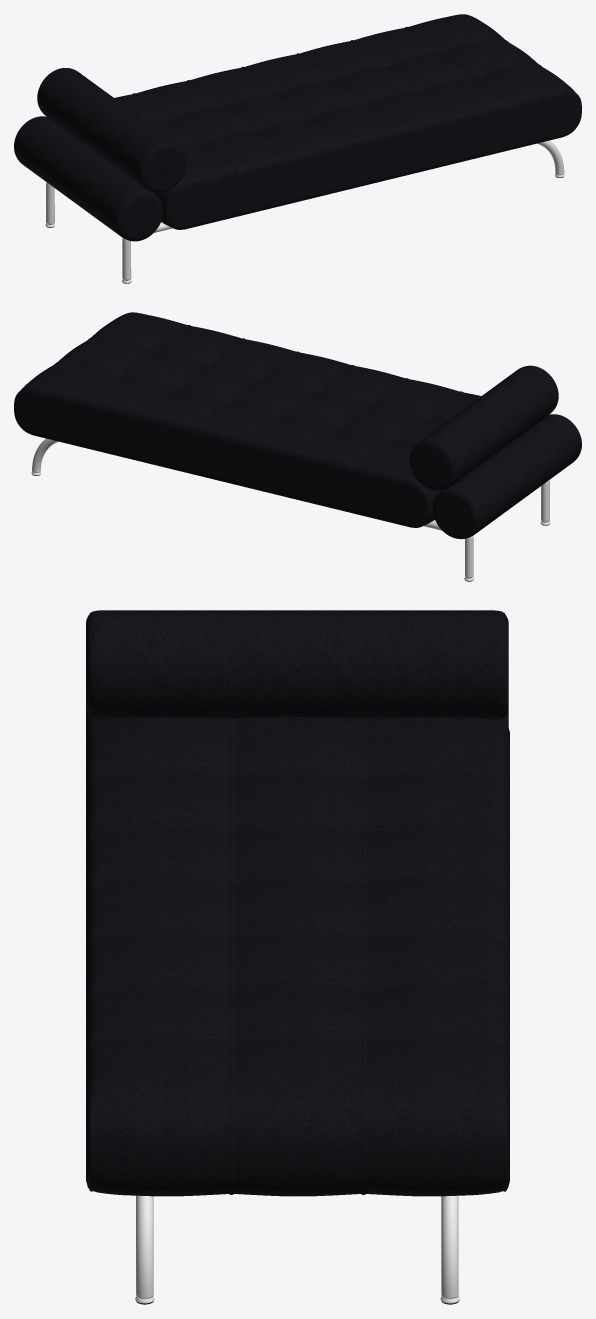
3 views of the same model, one above another, from view 1: azimuth 30°, elevation 25°; view 2: azimuth 150°, elevation 25°; view 3: azimuth 270°, elevation 25° (orthographic). The views are drawn at different scales.
Visible parts, largest first — view 1: 2987335; view 2: 2987335; view 3: 2987335.
Part boxes in pixels (box(x1,y1,x2,y2)): 2987335: box(14, 14, 581, 283); 2987335: box(14, 312, 581, 581); 2987335: box(86, 610, 509, 1304).
Size of the model in its own units: 1.78 by 0.52 by 0.7.
Materials: 1 (1 with a texture image).
